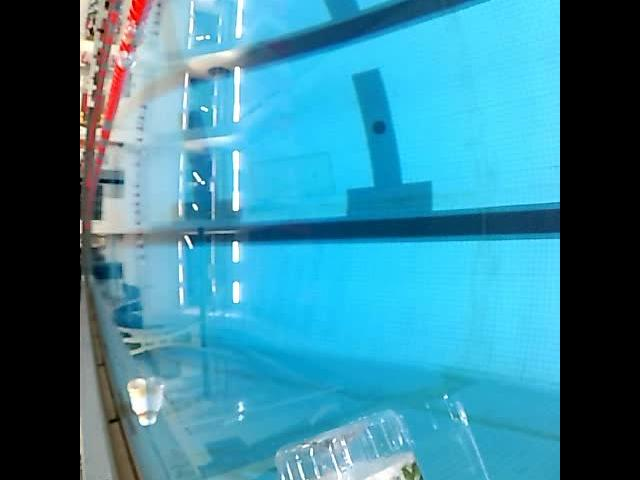Bottle: (264, 393, 466, 480), (122, 370, 154, 430)
